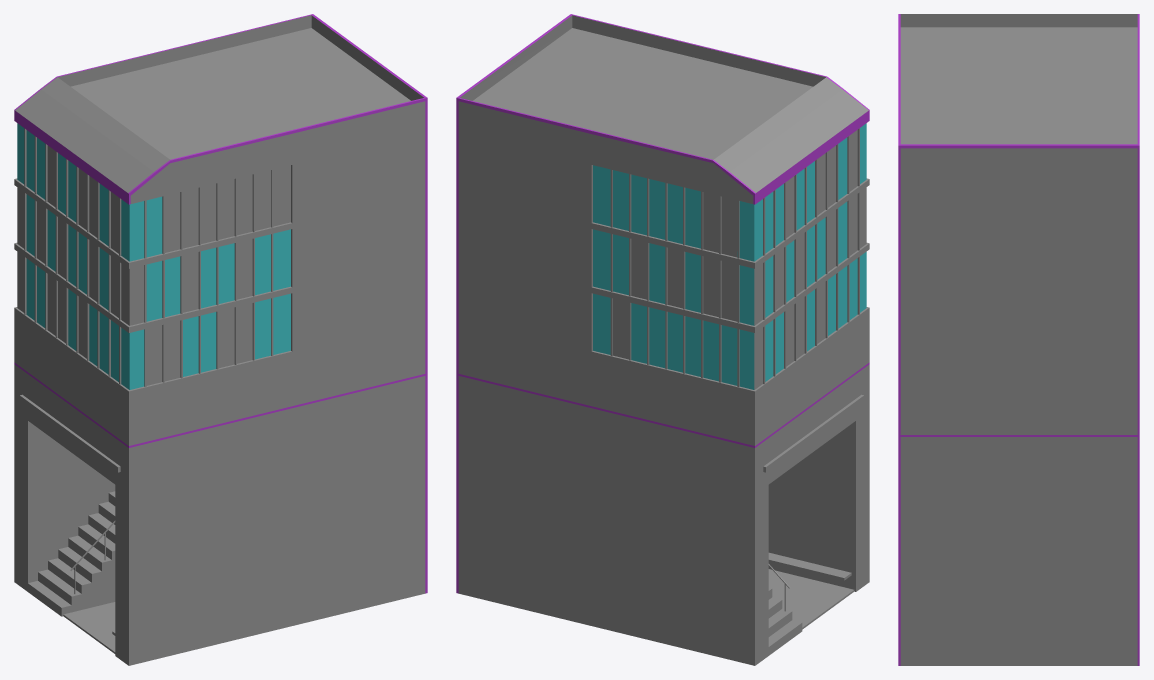
Rendered from buildings_S_02_VAR2 1.fbx.
3 views of the same model, side by side, from view 1: azimuth 30°, elevation 25°; view 2: azimuth 150°, elevation 25°; view 3: azimuth 270°, elevation 25° (orthographic). The views are drawn at different scales.
Parts seen in each view (by area): view 1: buildings_S_02_VAR2; view 2: buildings_S_02_VAR2; view 3: buildings_S_02_VAR2.
Boxes of the visible parts, left/top/right/bottom form: buildings_S_02_VAR2: left=14, top=14, right=427, bottom=665; buildings_S_02_VAR2: left=456, top=14, right=869, bottom=665; buildings_S_02_VAR2: left=898, top=14, right=1139, bottom=665.
Bounding box in the file's own units: 12.61 × 19.78 × 8.3.
